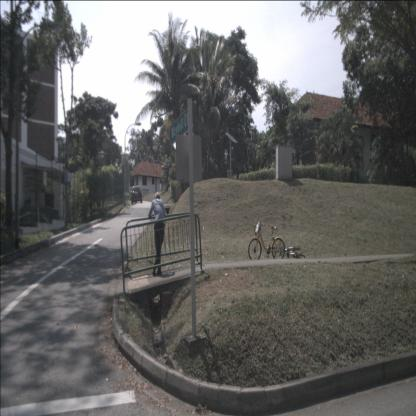human-pedestrian-adult: (148, 192, 167, 276)
vehicle-bicycle: (248, 221, 286, 262), (279, 246, 305, 260)
vehicle-car: (132, 185, 142, 205)
